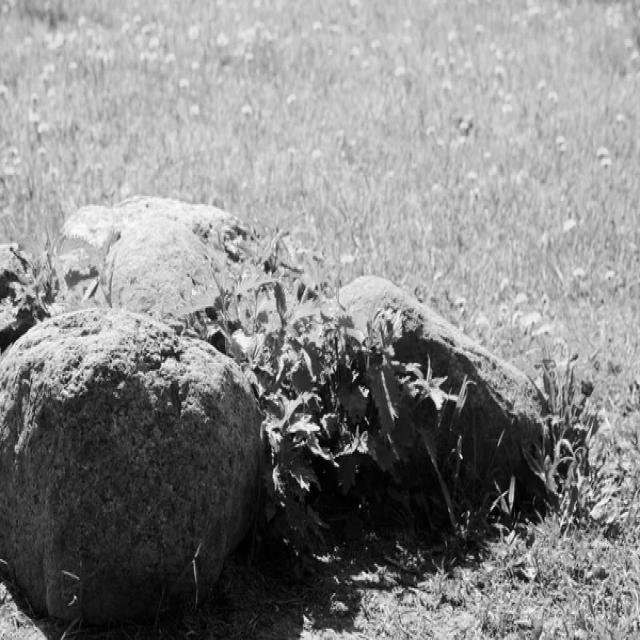Stone: (0, 309, 260, 624), (340, 276, 546, 484), (61, 196, 245, 312)
